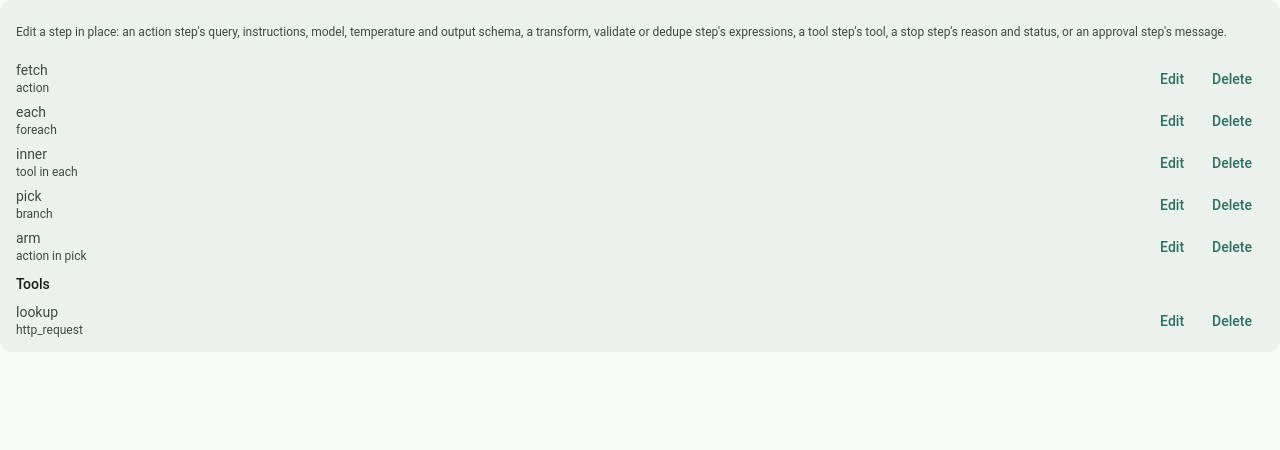
Test case: StepsPanel delete › says what else goes when a loop or branch is deleted
Click the button with aria-label "Delete step each" at point(1232, 121), box [1200, 103, 1264, 139]
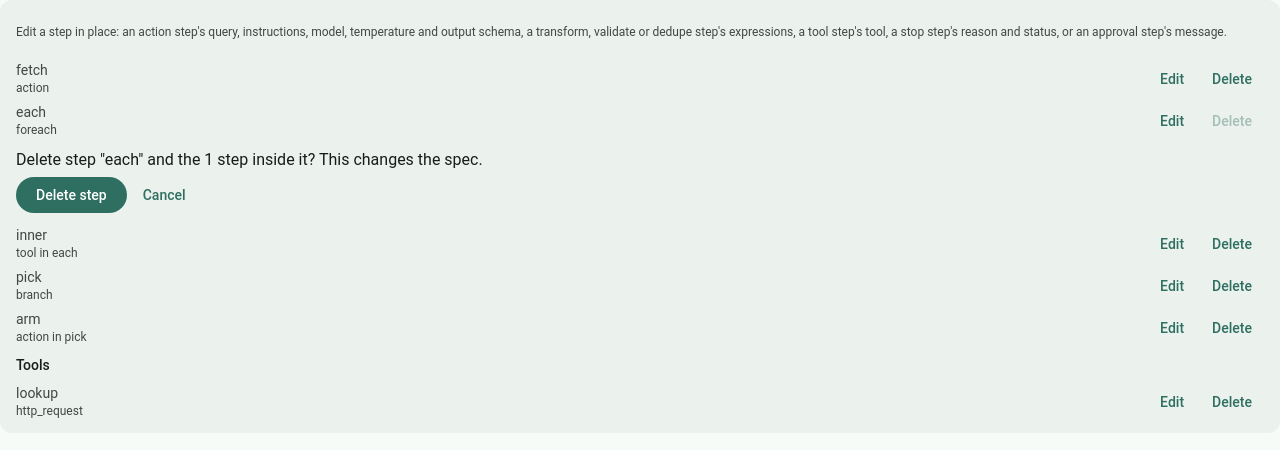
Check: the element named "Delete step each?" shows "and the 1 step inside it", box [143, 150, 308, 169]
